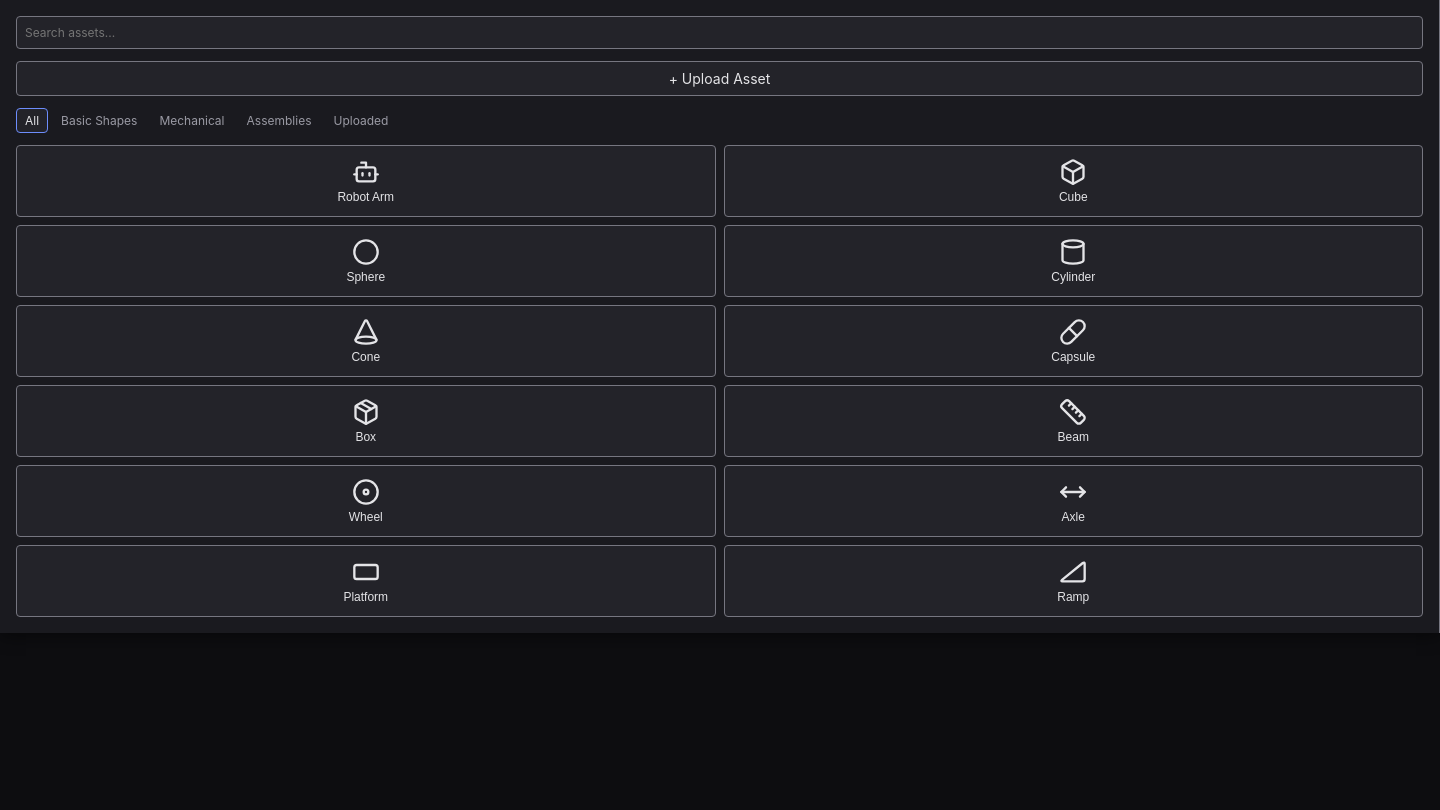
Test: AssetLibraryPanel › Assemblies shows exactly the Robot Arm card (M4.7)
Click the tab "Assemblies": click(279, 120) [238, 108, 320, 133]
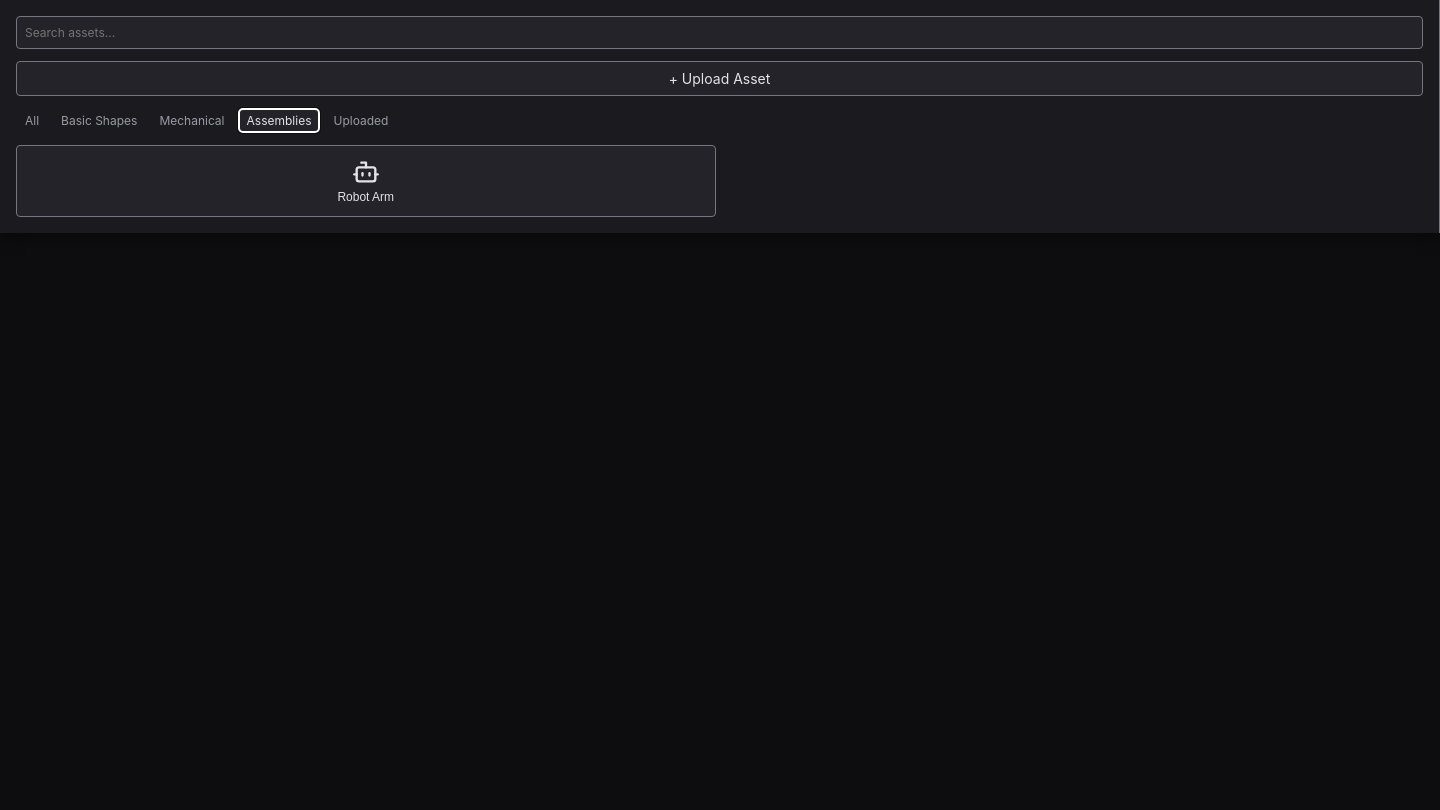
Expected: the button "Robot Arm" is shown, [16, 145, 716, 217]
Expected: the button "Cube" is gone
